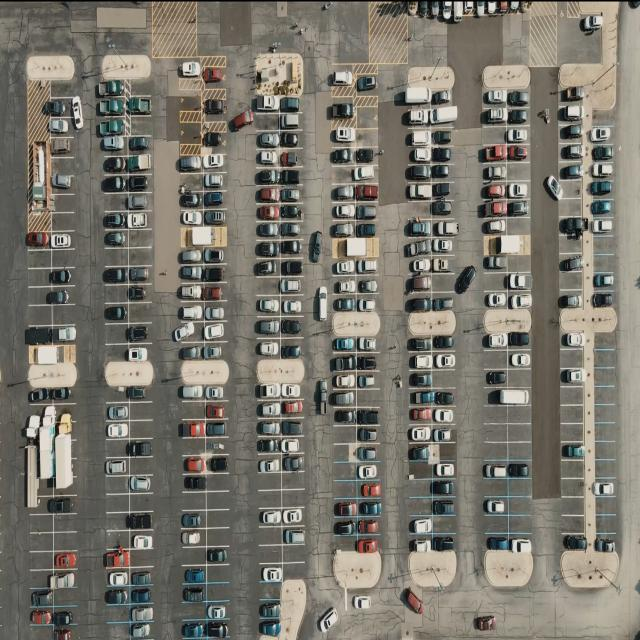space-empty: (486, 406, 532, 426), (485, 424, 531, 443), (488, 368, 532, 386), (184, 226, 218, 246), (127, 115, 154, 135), (483, 350, 510, 370), (105, 323, 130, 344), (104, 283, 130, 303), (409, 460, 435, 480), (128, 229, 154, 249), (54, 530, 80, 550), (51, 78, 77, 98), (252, 112, 279, 131), (559, 178, 583, 199), (106, 528, 130, 549), (559, 478, 584, 498), (27, 248, 52, 268), (28, 306, 53, 326), (333, 424, 358, 444), (509, 496, 534, 516), (179, 400, 205, 419), (355, 106, 377, 128), (509, 478, 533, 498), (53, 306, 77, 326), (29, 531, 53, 551), (507, 162, 531, 182), (333, 480, 357, 500), (593, 348, 617, 368), (207, 510, 231, 530), (354, 129, 378, 149), (206, 490, 230, 510), (30, 551, 54, 571), (433, 274, 457, 294), (28, 286, 52, 306), (481, 127, 506, 146), (104, 493, 129, 512), (256, 277, 281, 296), (483, 478, 508, 497), (103, 248, 128, 267), (130, 419, 155, 438), (483, 442, 508, 461), (333, 461, 358, 480), (560, 496, 585, 515), (103, 192, 129, 210), (127, 78, 153, 96), (406, 201, 432, 219), (180, 602, 206, 620), (560, 404, 583, 424), (179, 124, 202, 144), (128, 304, 151, 324), (594, 385, 617, 405), (594, 422, 617, 442), (594, 366, 617, 386), (130, 400, 153, 420), (105, 476, 129, 495), (560, 349, 584, 368), (561, 459, 585, 478), (260, 526, 284, 545), (178, 173, 202, 192), (559, 235, 583, 254), (508, 255, 532, 274), (182, 547, 206, 566), (104, 439, 128, 458), (483, 273, 507, 292), (206, 563, 230, 582), (592, 237, 616, 256), (509, 442, 533, 461), (29, 514, 53, 533), (129, 493, 153, 512), (182, 491, 206, 510), (507, 217, 531, 236), (259, 489, 283, 508), (129, 456, 153, 475), (355, 388, 379, 407), (560, 423, 584, 442), (280, 489, 304, 508), (207, 528, 231, 547), (434, 443, 458, 462), (408, 496, 433, 514), (593, 333, 618, 351), (433, 516, 458, 534), (129, 248, 154, 266), (27, 269, 52, 287), (181, 439, 206, 457), (206, 584, 231, 602), (484, 516, 510, 533), (595, 458, 617, 478), (594, 441, 616, 461), (52, 193, 75, 212), (592, 255, 615, 274), (281, 545, 304, 564), (30, 568, 53, 587), (260, 545, 283, 564), (259, 473, 282, 492), (179, 93, 202, 112), (561, 386, 584, 405), (54, 588, 78, 606), (54, 515, 78, 533), (106, 604, 130, 622), (332, 166, 356, 184), (408, 479, 432, 497), (559, 273, 583, 291), (104, 384, 128, 402), (105, 513, 129, 531), (205, 473, 229, 491), (559, 200, 583, 218), (590, 108, 614, 126), (561, 516, 585, 534), (53, 211, 75, 230), (595, 405, 617, 424), (282, 561, 304, 580), (53, 249, 76, 267), (261, 584, 284, 602), (280, 471, 303, 489), (510, 516, 533, 534), (131, 550, 154, 568), (52, 158, 75, 176), (334, 444, 356, 462), (594, 497, 616, 515), (434, 371, 456, 389), (335, 534, 358, 551), (104, 345, 128, 361), (106, 624, 130, 640), (596, 516, 616, 534), (29, 626, 54, 640)
space-occupied: (487, 385, 531, 406), (492, 333, 529, 351), (203, 91, 227, 117), (126, 96, 153, 118), (202, 64, 226, 88), (46, 117, 72, 139), (46, 96, 72, 118), (176, 319, 202, 341), (97, 98, 125, 118), (588, 178, 616, 198), (257, 294, 282, 316), (481, 105, 507, 126), (432, 105, 458, 126), (406, 182, 433, 202), (100, 136, 127, 156), (559, 215, 586, 235), (559, 142, 586, 162), (98, 116, 126, 135), (406, 238, 434, 257), (98, 78, 126, 97), (332, 66, 355, 89), (280, 295, 304, 317), (332, 99, 356, 121), (255, 316, 280, 337), (105, 304, 130, 325), (202, 320, 227, 341), (181, 619, 206, 640), (203, 129, 228, 150), (104, 402, 130, 422), (482, 458, 508, 478), (589, 216, 615, 236), (406, 106, 432, 126), (180, 527, 206, 547), (408, 423, 434, 443), (408, 292, 434, 312), (257, 398, 283, 418), (481, 180, 507, 200), (179, 58, 202, 80), (280, 338, 303, 360), (261, 562, 285, 583), (332, 126, 356, 147), (559, 288, 583, 309), (353, 164, 377, 185), (404, 89, 432, 107), (104, 230, 129, 250), (104, 419, 129, 439), (128, 265, 153, 285), (508, 272, 533, 292), (180, 418, 205, 438), (104, 266, 129, 286), (177, 154, 202, 174), (407, 216, 432, 236), (103, 156, 128, 176), (484, 496, 509, 516), (178, 282, 203, 302), (256, 454, 281, 474), (353, 443, 378, 463), (588, 126, 614, 145), (103, 210, 129, 229), (180, 511, 206, 530), (103, 174, 129, 193), (408, 443, 434, 462), (254, 259, 280, 278), (482, 144, 508, 163), (590, 199, 616, 218), (178, 383, 204, 402), (559, 125, 585, 144), (26, 231, 52, 250), (410, 387, 436, 406), (177, 303, 203, 322), (559, 104, 585, 123), (332, 353, 358, 372), (408, 274, 434, 293), (485, 369, 511, 388), (485, 533, 512, 551), (355, 72, 377, 94), (129, 210, 153, 230), (128, 136, 152, 156), (128, 155, 152, 175), (54, 568, 78, 588), (434, 217, 458, 237), (280, 317, 304, 337), (332, 148, 356, 168), (560, 368, 584, 388), (562, 442, 586, 462), (130, 439, 154, 459), (280, 276, 304, 296), (278, 148, 302, 168), (203, 153, 227, 173), (483, 288, 507, 308), (507, 180, 531, 200), (509, 289, 533, 309), (131, 530, 155, 550), (508, 349, 532, 369), (257, 338, 281, 358), (50, 137, 74, 157), (106, 566, 130, 586), (410, 350, 434, 370), (54, 494, 78, 514), (255, 220, 280, 239), (333, 497, 358, 516), (482, 163, 507, 182), (105, 550, 130, 569), (256, 437, 281, 456), (408, 516, 433, 535), (407, 164, 432, 183), (482, 217, 507, 236), (333, 407, 358, 426), (410, 370, 435, 389), (332, 372, 357, 391), (258, 418, 283, 437), (587, 160, 612, 179), (407, 128, 432, 147), (252, 94, 278, 112), (332, 388, 358, 406), (408, 257, 434, 275), (589, 144, 615, 162), (430, 534, 456, 552), (129, 322, 151, 343), (183, 564, 206, 584), (207, 546, 230, 566), (105, 456, 128, 476), (354, 145, 377, 165), (560, 254, 583, 274), (281, 508, 304, 528), (183, 474, 206, 494), (131, 566, 154, 586), (433, 350, 456, 370), (355, 275, 378, 295), (207, 620, 230, 640), (129, 475, 153, 494), (509, 459, 533, 478), (560, 332, 584, 351), (260, 509, 284, 528), (507, 126, 531, 145), (54, 324, 78, 343), (280, 453, 304, 472), (508, 106, 532, 125), (507, 143, 531, 162), (204, 282, 228, 301), (129, 174, 153, 193), (559, 162, 583, 181), (204, 455, 228, 474), (28, 325, 52, 344), (433, 424, 457, 443), (182, 584, 206, 603), (280, 436, 304, 455), (357, 481, 381, 500), (333, 276, 357, 295), (280, 398, 304, 417), (333, 293, 357, 312), (130, 513, 154, 532), (28, 383, 52, 402), (508, 332, 532, 351), (592, 289, 616, 308), (53, 606, 78, 624), (334, 336, 359, 354), (409, 407, 434, 425), (483, 200, 508, 218), (201, 342, 226, 360), (482, 333, 508, 350), (52, 174, 74, 194), (52, 231, 74, 251), (258, 130, 280, 150), (278, 130, 300, 150), (260, 600, 282, 620), (260, 620, 282, 640), (30, 589, 53, 608), (203, 171, 226, 190), (255, 148, 278, 167), (280, 220, 303, 239), (281, 526, 304, 545), (129, 192, 152, 211), (333, 183, 356, 202), (593, 479, 616, 498), (52, 285, 75, 304), (207, 600, 230, 619), (408, 145, 431, 164), (280, 259, 303, 278), (430, 128, 453, 147), (280, 239, 303, 258), (593, 533, 616, 552), (179, 190, 203, 208), (54, 552, 78, 570), (482, 90, 506, 108), (354, 203, 378, 221), (433, 460, 457, 478), (30, 609, 54, 627), (334, 516, 358, 534), (357, 498, 381, 516), (256, 241, 280, 259), (179, 266, 203, 284), (257, 204, 281, 222), (432, 480, 456, 498), (432, 496, 456, 514), (592, 273, 616, 291), (432, 236, 456, 254), (562, 533, 586, 551), (179, 247, 204, 264), (432, 164, 454, 183), (206, 419, 228, 438), (354, 183, 376, 202), (130, 586, 152, 605), (204, 303, 226, 322), (434, 406, 456, 425), (206, 402, 228, 421), (433, 292, 455, 311), (204, 265, 226, 284), (560, 88, 586, 104), (484, 254, 507, 272), (52, 268, 75, 286), (203, 190, 226, 208), (357, 518, 380, 536), (182, 456, 205, 474), (355, 408, 378, 426), (333, 203, 356, 221), (431, 182, 454, 200), (508, 200, 531, 218), (508, 91, 531, 109), (333, 219, 356, 237), (180, 209, 203, 227), (353, 221, 376, 239), (203, 209, 226, 227), (129, 344, 152, 362), (281, 418, 304, 436), (202, 246, 225, 264), (431, 257, 454, 275), (178, 342, 201, 360), (355, 535, 378, 553), (509, 533, 532, 551), (430, 336, 454, 353), (257, 383, 281, 400), (106, 588, 130, 605), (408, 336, 432, 353), (355, 462, 379, 479), (355, 256, 376, 275), (356, 372, 378, 390), (434, 388, 456, 406), (433, 201, 455, 219), (356, 425, 378, 443), (130, 622, 152, 640), (280, 204, 302, 222), (432, 146, 454, 164), (205, 384, 227, 402), (127, 283, 149, 301), (132, 605, 154, 623), (410, 534, 432, 552), (256, 169, 279, 186), (129, 385, 152, 402), (280, 96, 301, 114), (356, 353, 377, 371), (355, 296, 376, 314), (256, 185, 278, 202), (280, 185, 302, 202), (430, 91, 453, 107), (278, 170, 301, 186), (55, 385, 75, 403), (279, 113, 300, 130), (357, 337, 378, 354), (334, 260, 355, 277), (280, 383, 302, 399), (54, 626, 74, 640)
